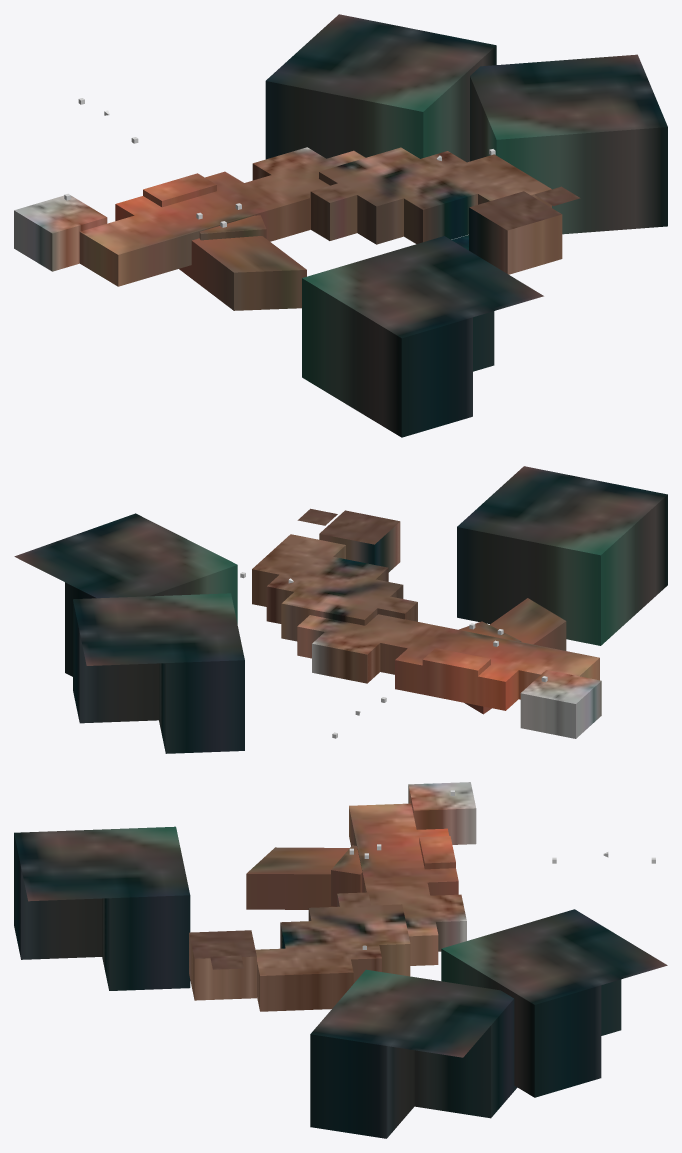
Rendered from blocks-1.gltf.
3 renders of one model, top to bottom at view 1: azimuth 30°, elevation 25°; view 2: azimuth 150°, elevation 25°; view 3: azimuth 270°, elevation 25°, orthographic. The views are drawn at different scales.
Parts seen in each view (by area): view 1: Plane.006; view 2: Plane.006; view 3: Plane.006.
Boxes of the visible parts, box(x1,y1,x2,y2) form: Plane.006: box(14, 14, 667, 437); Plane.006: box(14, 466, 667, 753); Plane.006: box(14, 782, 667, 1138).
Size of the model in its own units: 305 by 50.72 by 299.
Materials: 1 (1 with a texture image).
